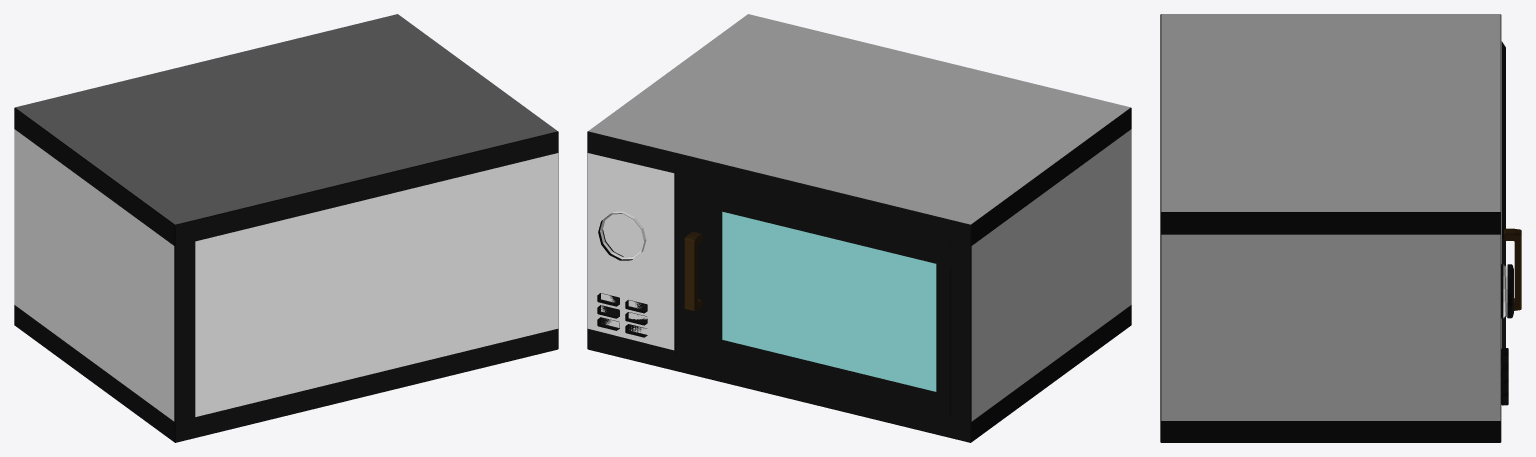
Rendered from Microwave.fbx.
The picture shows the model from 3 angles, left to right: view 1: azimuth 30°, elevation 25°; view 2: azimuth 150°, elevation 25°; view 3: azimuth 270°, elevation 25°; orthographic projection. The views are drawn at different scales.
Visible parts, largest first — view 1: Node 0; view 2: Node 0; view 3: Node 0.
Boxes of the visible parts, x1,y1,x2,y2 form: Node 0: (14, 14, 558, 442); Node 0: (587, 14, 1131, 442); Node 0: (1160, 14, 1521, 442).
Bounding box in the file's own units: 0.399 × 0.2816 × 0.5189.
